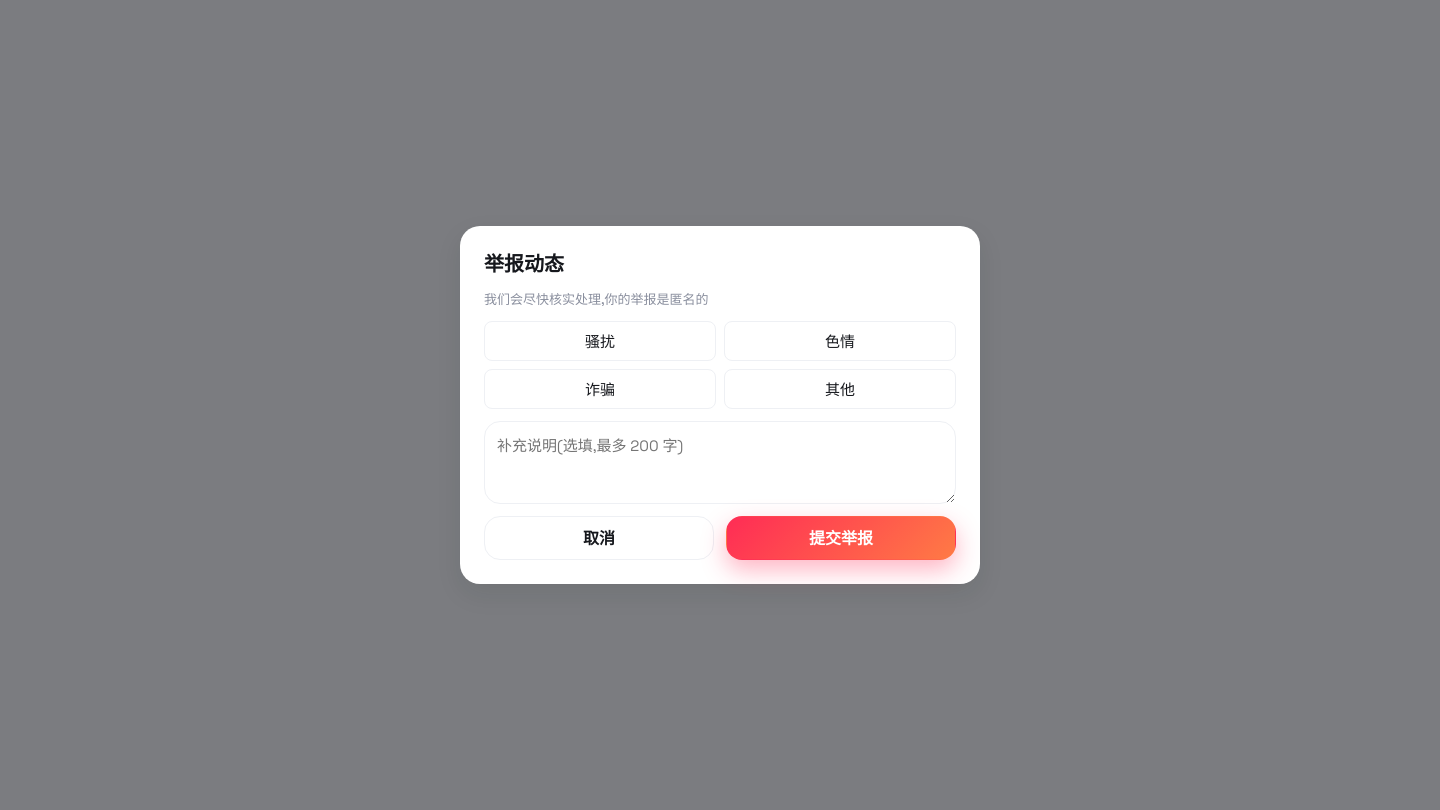
Test: ReportDialog › 未选理由时不能提交
The image size is (1440, 810).
Click the button with class "report-dialog__submit": (841, 538) [726,516,956,560]
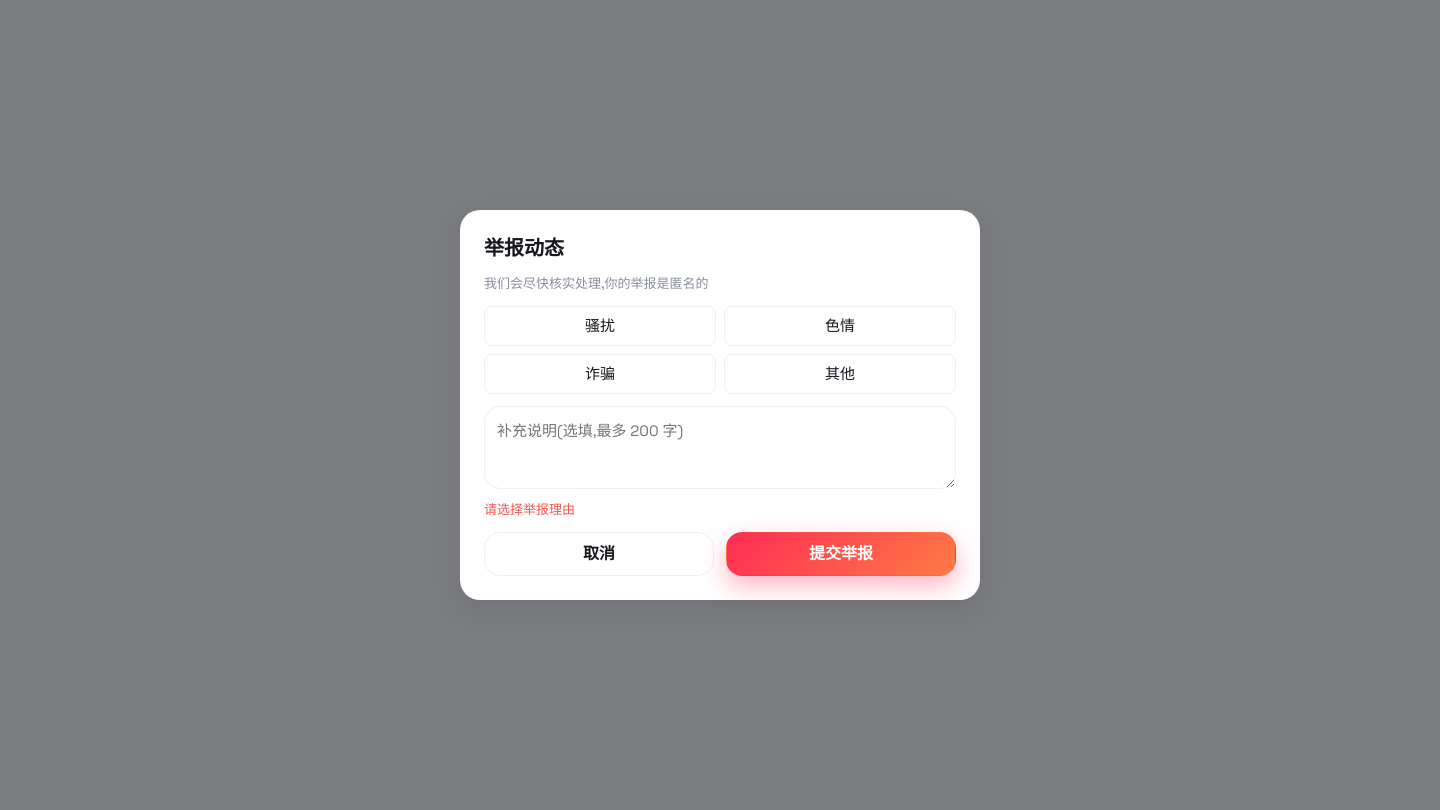
Expected: the text "请选择举报理由" is shown, [484,501,575,518]
